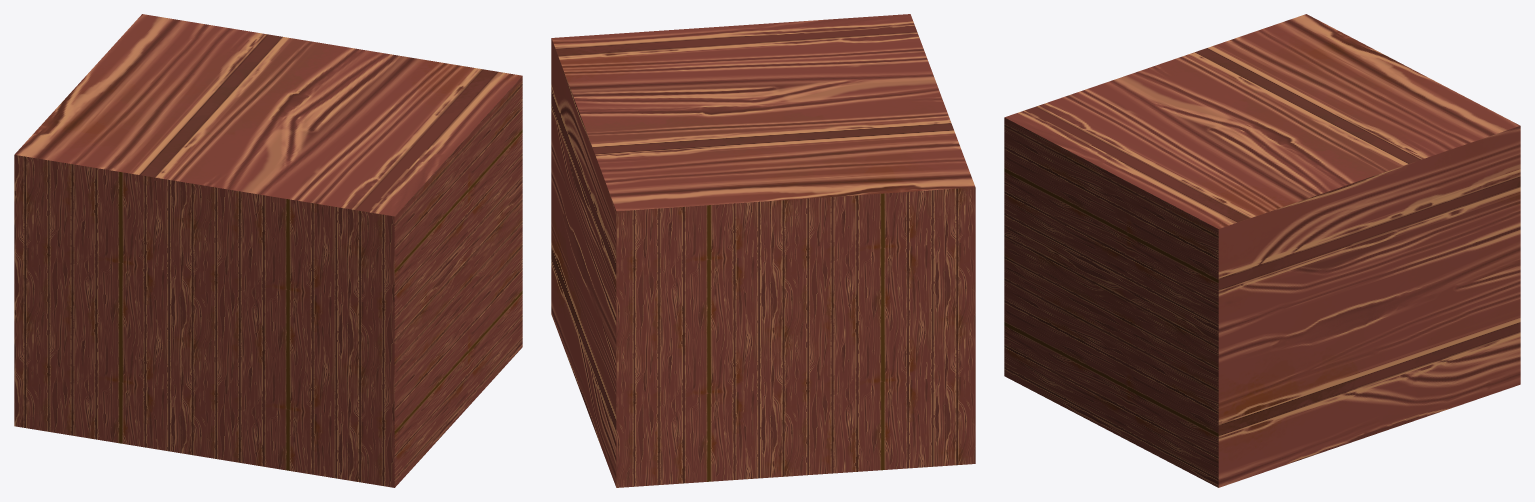
3 views of the same model, side by side, from view 1: azimuth 30°, elevation 25°; view 2: azimuth 150°, elevation 25°; view 3: azimuth 270°, elevation 25° (orthographic). The views are drawn at different scales.
Visible parts, largest first — view 1: Cube.638; view 2: Cube.638; view 3: Cube.638.
Part boxes in pixels (left/top/right/bottom): Cube.638: left=14, top=14, right=522, bottom=487; Cube.638: left=551, top=14, right=975, bottom=487; Cube.638: left=1004, top=14, right=1520, bottom=487.
Size of the model in its own units: 1646 by 924 by 1669.
Materials: 1 (1 with a texture image).
